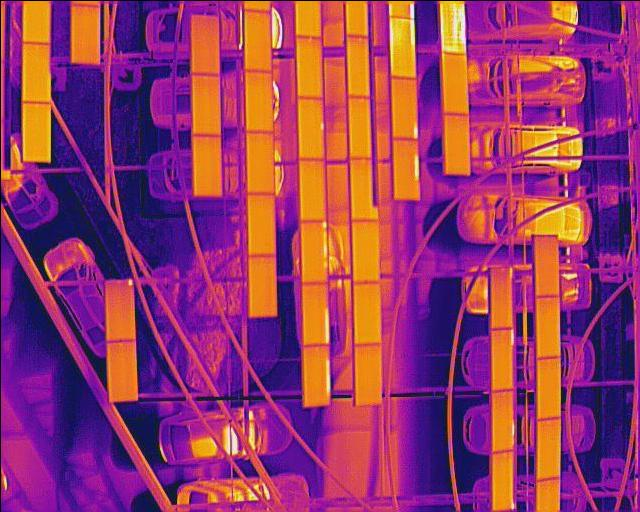Cell: (104, 279, 134, 339), (296, 96, 323, 162)
No-Anomaly: (243, 130, 274, 193), (105, 340, 137, 401), (69, 3, 100, 64), (245, 255, 276, 316), (21, 40, 50, 104), (191, 135, 221, 196), (351, 281, 380, 344), (190, 72, 219, 135), (245, 193, 274, 256), (294, 35, 323, 98), (350, 218, 378, 283), (352, 343, 381, 404), (439, 52, 467, 115), (242, 8, 270, 71), (21, 100, 50, 160), (533, 294, 560, 358), (244, 70, 272, 131), (297, 158, 324, 221), (348, 155, 373, 221), (531, 235, 558, 296), (190, 14, 217, 75), (534, 356, 560, 419), (345, 94, 370, 159), (344, 34, 369, 98), (443, 112, 468, 174), (488, 267, 512, 330), (535, 417, 559, 480), (490, 390, 513, 452), (490, 451, 513, 511)
Unclassified: (298, 220, 327, 284), (390, 74, 417, 142), (300, 343, 329, 406), (391, 137, 419, 199), (388, 16, 415, 80), (300, 282, 328, 343), (438, 0, 466, 53), (490, 327, 513, 390)
